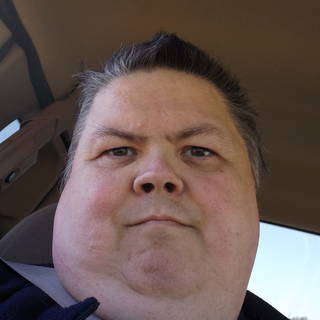eye: (95, 140, 142, 164), (176, 140, 223, 164)
